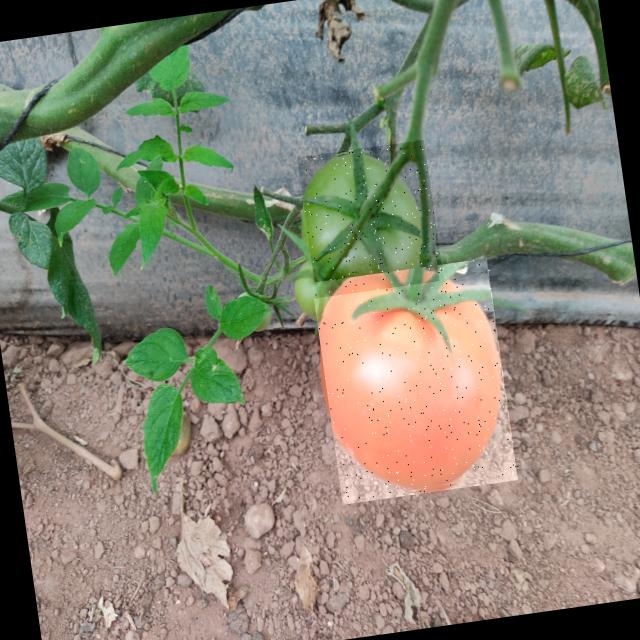Ripe Tomato: (313, 258, 522, 504)
Unripe Tomato: (297, 140, 444, 298)
